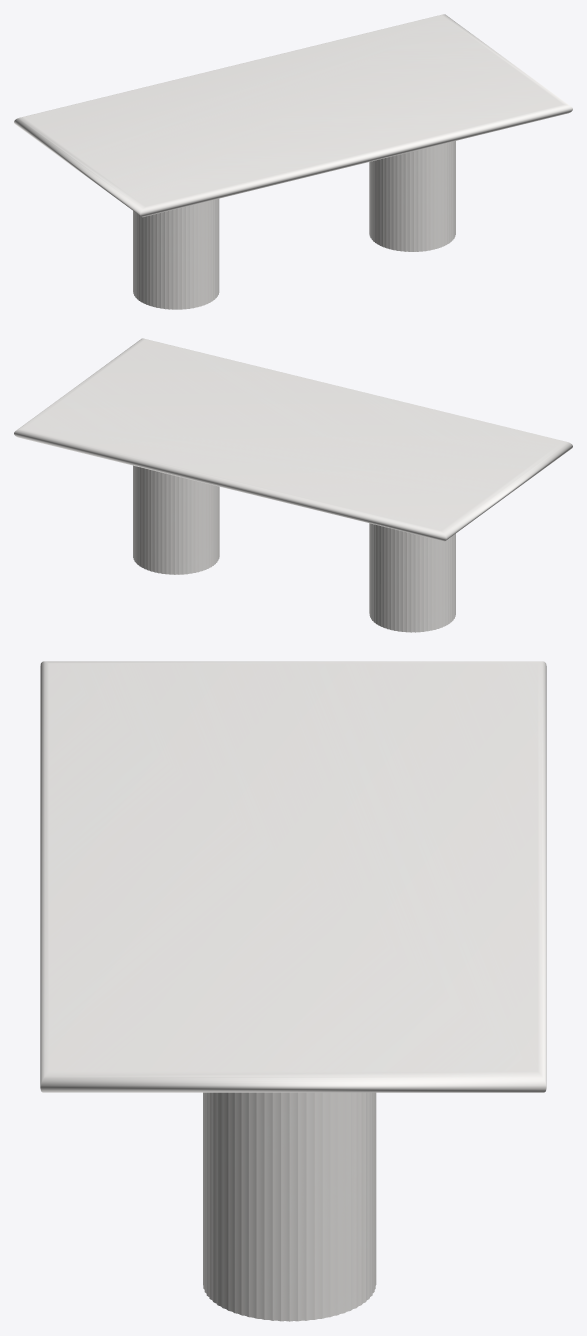
The model's file is purewhite_recta_round_ripplesecond.glb.
3 renders of one model, top to bottom at view 1: azimuth 30°, elevation 25°; view 2: azimuth 150°, elevation 25°; view 3: azimuth 270°, elevation 25°, orthographic. The views are drawn at different scales.
Visible parts, largest first — view 1: round_recta, ripplesecond; view 2: round_recta, ripplesecond; view 3: round_recta, ripplesecond.
Boxes of the visible parts, <box> form: round_recta: <box>14,14,572,217</box>; ripplesecond: <box>133,141,455,309</box>; round_recta: <box>14,338,572,541</box>; ripplesecond: <box>133,465,455,632</box>; round_recta: <box>40,661,546,1092</box>; ripplesecond: <box>203,1092,376,1321</box>.
Bounding box in the file's own units: 7.5 × 2.5 × 3.8.
1 material, 1 textured.
